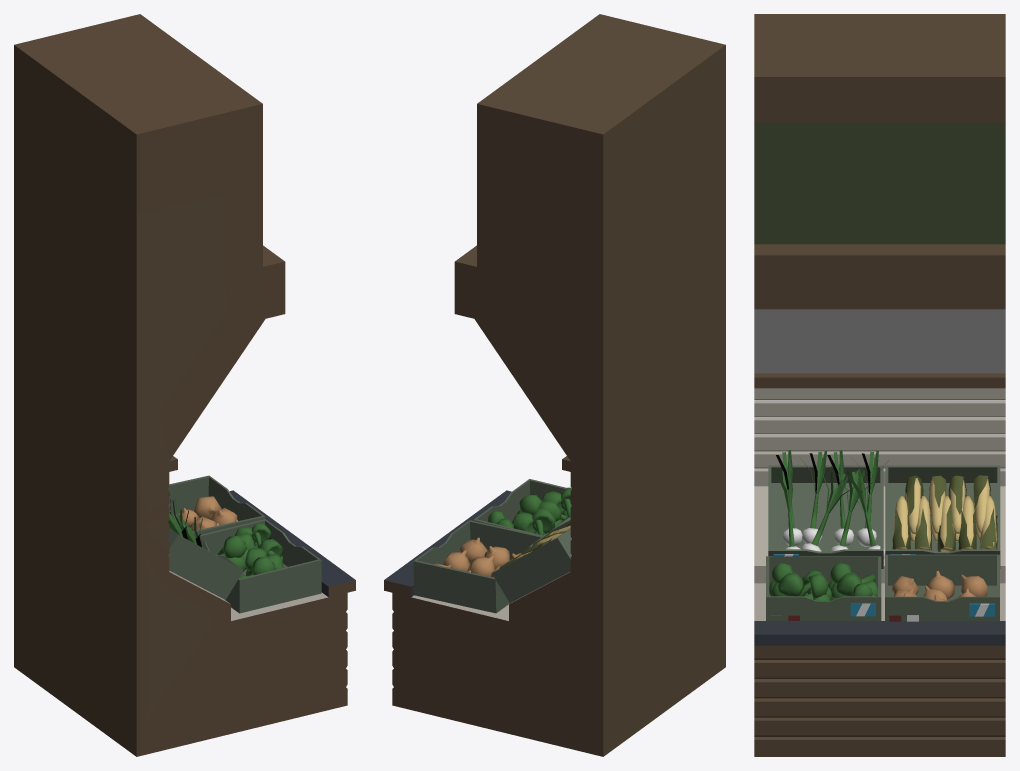
The model's file is SM_fruitShelve_04.glb.
The picture shows the model from 3 angles, left to right: view 1: azimuth 30°, elevation 25°; view 2: azimuth 150°, elevation 25°; view 3: azimuth 270°, elevation 25°; orthographic projection. The views are drawn at different scales.
Parts seen in each view (by area): view 1: SM_fruitShelve_04; view 2: SM_fruitShelve_04; view 3: SM_fruitShelve_04.
Boxes of the visible parts, x1=… form: SM_fruitShelve_04: x1=14, y1=14, x2=355, y2=756; SM_fruitShelve_04: x1=384, y1=14, x2=725, y2=756; SM_fruitShelve_04: x1=754, y1=14, x2=1005, y2=756.
Bounding box in the file's own units: 1.03 × 2.8 × 1.
2 materials, 1 textured.
